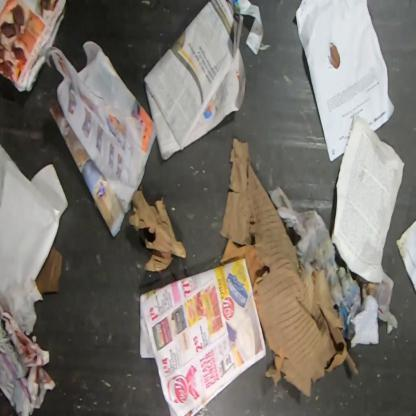cardboard: (219, 137, 358, 398), (128, 189, 186, 272), (220, 239, 266, 295), (35, 244, 63, 295)
